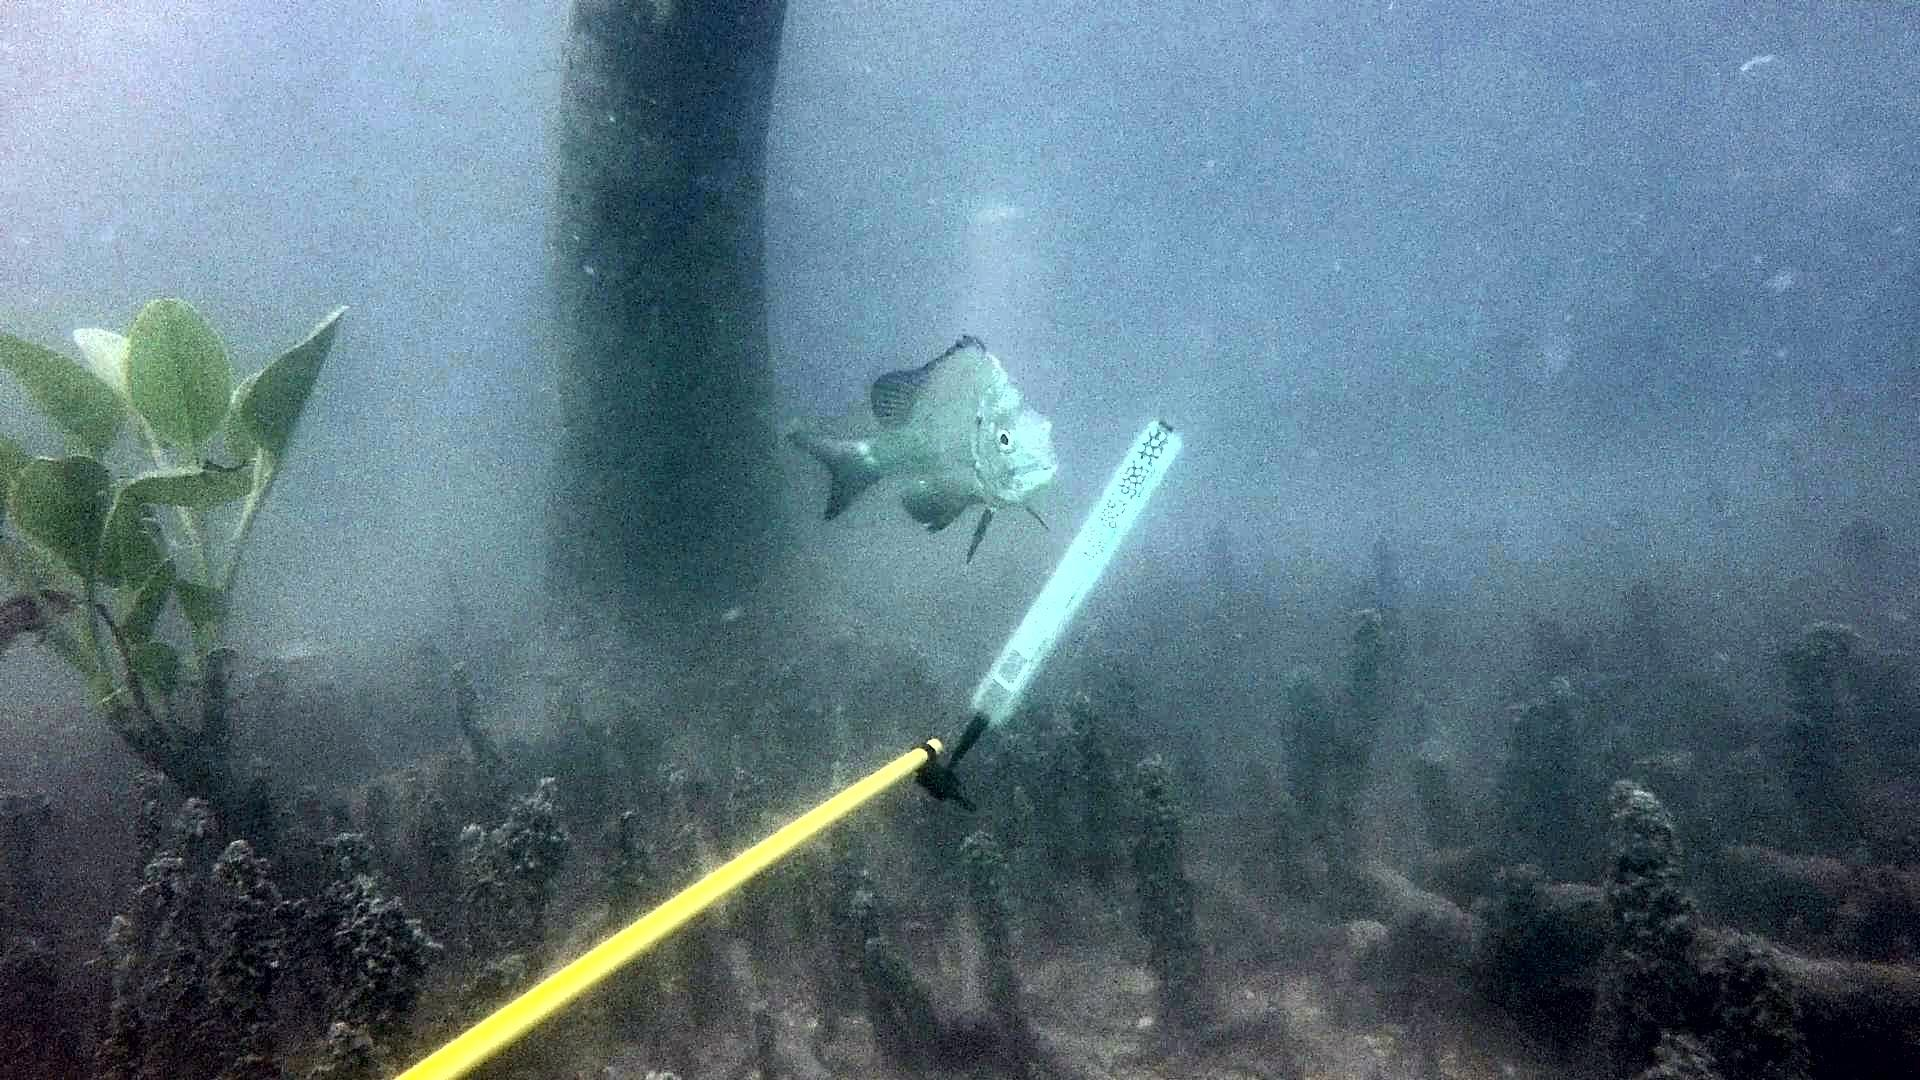acanthopagrus palmaris: (784, 327, 1065, 571)
